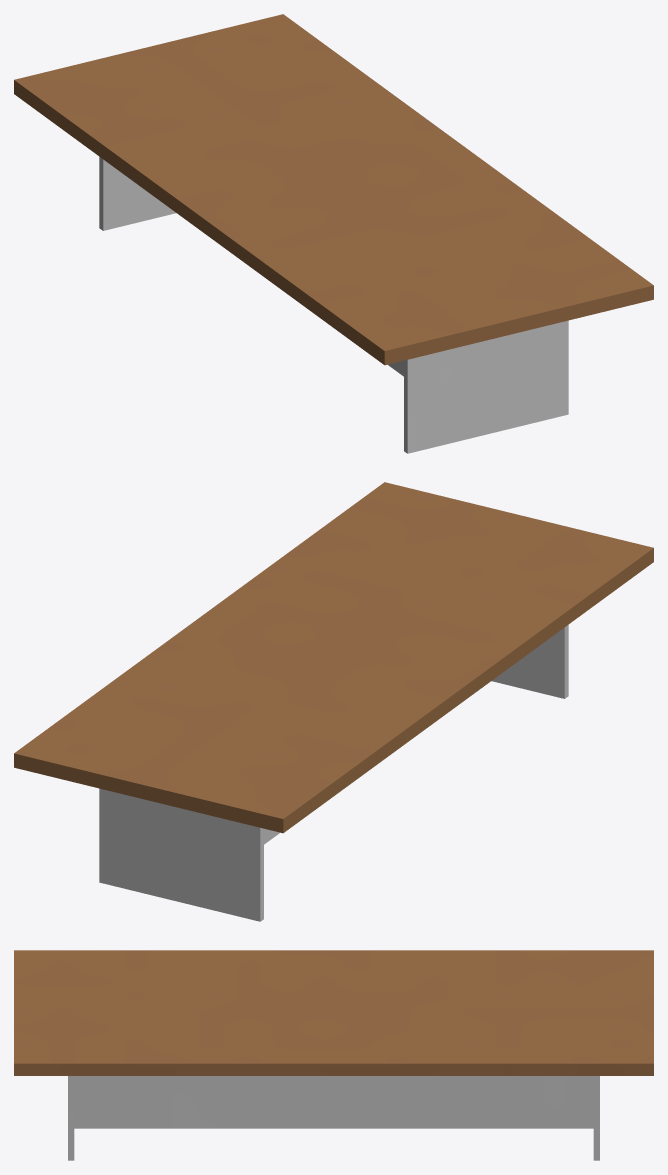
File: Meeting_Table_01.fbx
3 renders of one model, top to bottom at view 1: azimuth 30°, elevation 25°; view 2: azimuth 150°, elevation 25°; view 3: azimuth 270°, elevation 25°, orthographic. The views are drawn at different scales.
Visible parts, largest first — view 1: Meeting_Table_01; view 2: Meeting_Table_01; view 3: Meeting_Table_01.
Part boxes in pixels (box(x1,y1,x2,y2)): Meeting_Table_01: box(14, 14, 653, 453); Meeting_Table_01: box(14, 482, 653, 921); Meeting_Table_01: box(14, 950, 653, 1160).
Bounding box in the file's own units: 1.39 × 0.6867 × 3.32.
